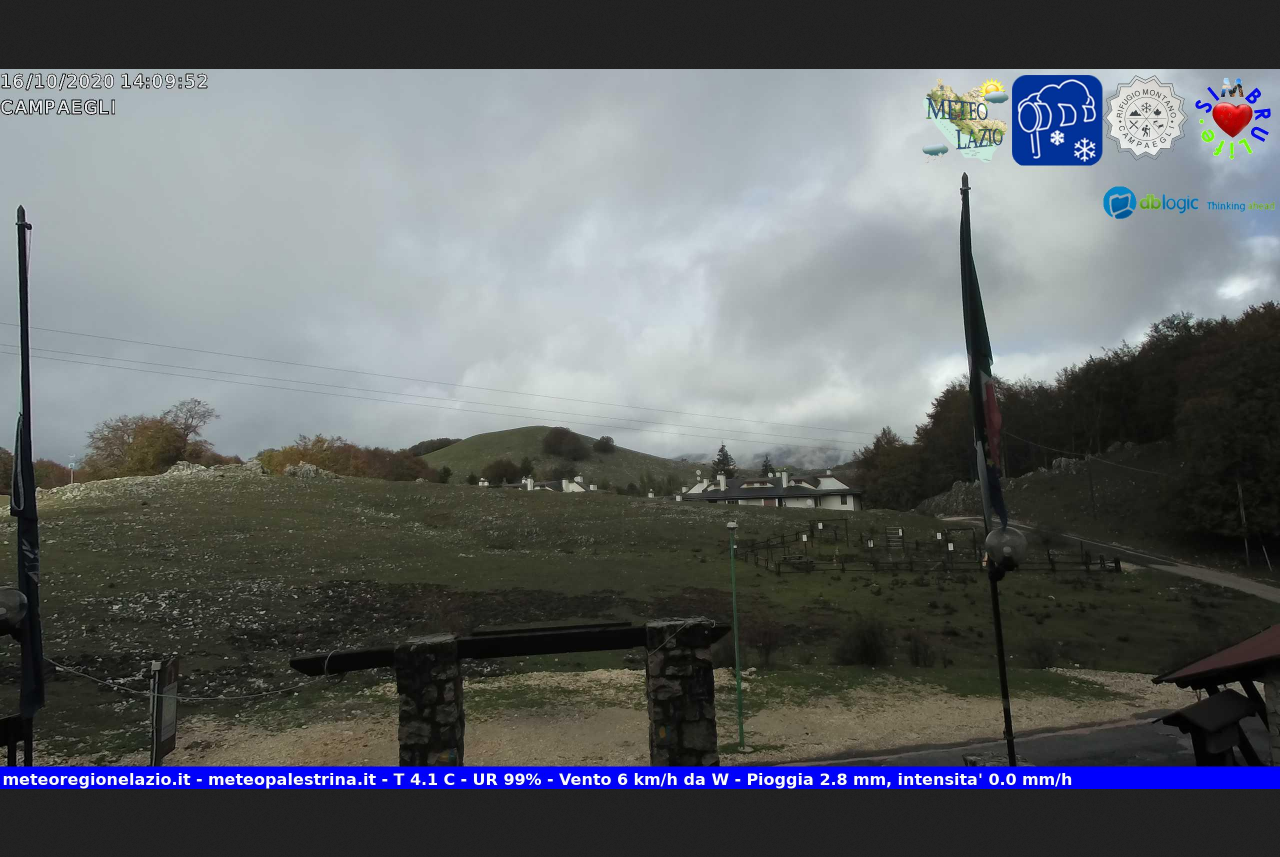no: (954, 197, 1011, 472), (10, 412, 47, 732)
